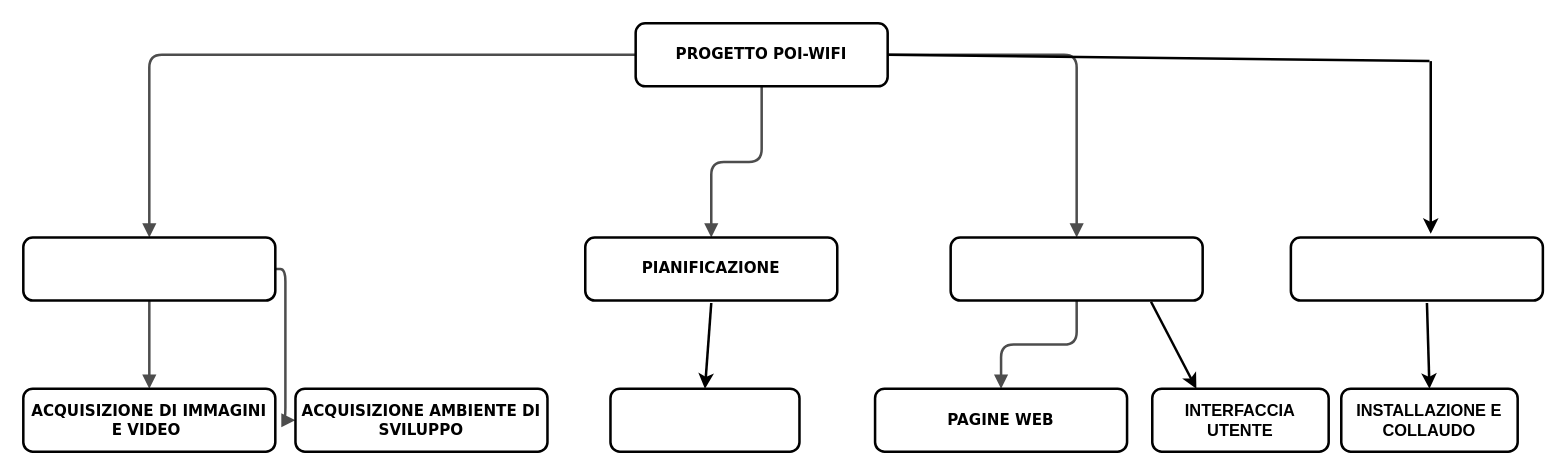
The diagram is 1565 pixels wide and 474 high, and some of its shapes have lost their labels. The shapes that lost their labels are listed below. From the top down, each one's centre as x and y in pixels, then its label:
the point at 148,268: AVVIO
the point at 1076,268: REALIZZAZIONE
the point at 1416,268: CHIUSURA
the point at 704,419: PROGETTAZIONE
